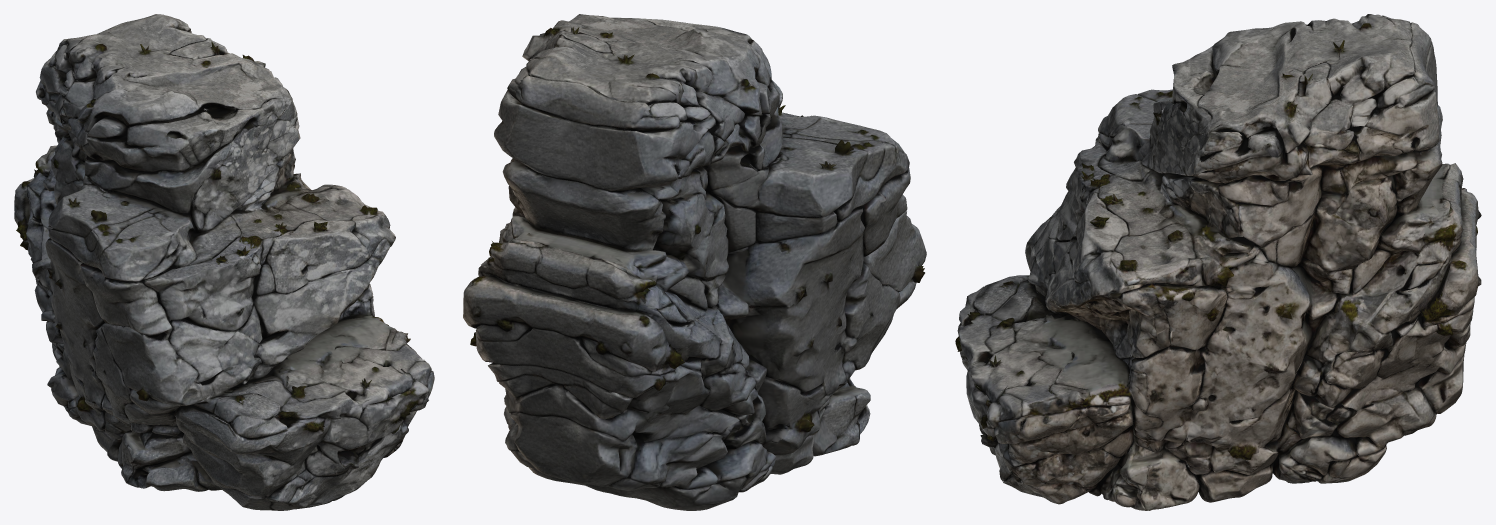
The model's file is CW_HF_Limestone.fbx.
The picture shows the model from 3 angles, left to right: view 1: azimuth 30°, elevation 25°; view 2: azimuth 150°, elevation 25°; view 3: azimuth 270°, elevation 25°; orthographic projection. The views are drawn at different scales.
Parts seen in each view (by area): view 1: CW_HF_Limestone; view 2: CW_HF_Limestone; view 3: CW_HF_Limestone.
Boxes of the visible parts, box(x1,y1,x2,y2) form: CW_HF_Limestone: box(14, 14, 434, 510); CW_HF_Limestone: box(463, 14, 926, 510); CW_HF_Limestone: box(955, 14, 1481, 510).
Size of the model in its own units: 5 by 6.04 by 6.85.
Materials: 1 (1 with a texture image).
